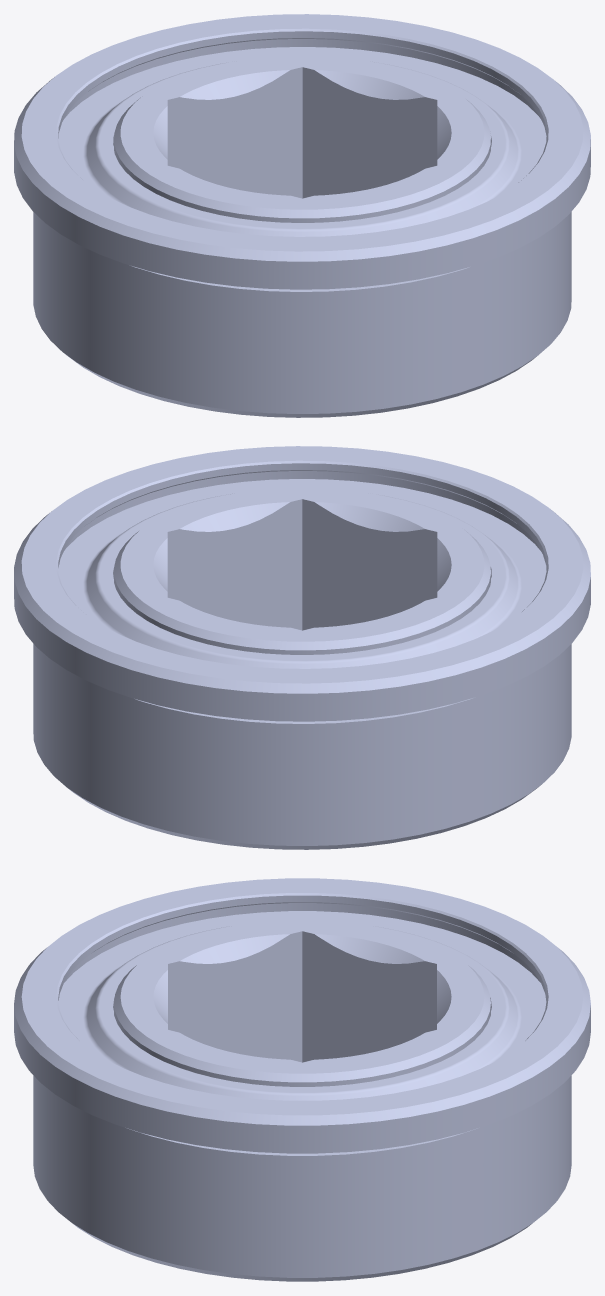
File: _1611_0514_4008_STEP_1__1_.obj
3 views of the same model, one above another, from view 1: azimuth 30°, elevation 25°; view 2: azimuth 150°, elevation 25°; view 3: azimuth 270°, elevation 25° (orthographic).
Parts seen in each view (by area): view 1: mesh1606, mesh1597, mesh1607, mesh1559, mesh1553, mesh1545, mesh1600, mesh1587, mesh1580, mesh1598, mesh1601, mesh1562 (+22 smaller); view 2: mesh1606, mesh1597, mesh1607, mesh1559, mesh1566, mesh1556, mesh1600, mesh1587, mesh1580, mesh1598, mesh1601, mesh1562 (+23 smaller); view 3: mesh1607, mesh1597, mesh1601, mesh1559, mesh1547, mesh1550, mesh1587, mesh1599, mesh1580, mesh1584, mesh1563, mesh1589 (+12 smaller).
Boxes of the visible parts, x1,y1,x2,y2 form: mesh1606: [33, 212, 437, 413]; mesh1597: [21, 14, 583, 251]; mesh1607: [437, 212, 571, 398]; mesh1559: [120, 56, 484, 209]; mesh1553: [302, 67, 437, 198]; mesh1545: [167, 67, 302, 198]; mesh1600: [14, 145, 446, 289]; mesh1587: [58, 47, 546, 196]; mesh1580: [99, 67, 505, 228]; mesh1598: [14, 77, 446, 261]; mesh1601: [447, 139, 590, 273]; mesh1562: [114, 97, 396, 218]; mesh1606: [167, 644, 571, 845]; mesh1597: [21, 446, 583, 683]; mesh1607: [33, 644, 167, 830]; mesh1559: [120, 488, 484, 641]; mesh1566: [302, 499, 437, 630]; mesh1556: [167, 499, 302, 630]; mesh1600: [158, 577, 590, 721]; mesh1587: [58, 479, 546, 628]; mesh1580: [99, 499, 505, 660]; mesh1598: [158, 509, 590, 693]; mesh1601: [14, 571, 157, 705]; mesh1562: [208, 529, 490, 650]; mesh1607: [33, 1075, 571, 1277]; mesh1597: [21, 878, 583, 1115]; mesh1601: [14, 1005, 590, 1153]; mesh1559: [120, 920, 484, 1073]; mesh1547: [302, 931, 436, 1062]; mesh1550: [168, 931, 302, 1062]; mesh1587: [58, 911, 546, 1060]; mesh1599: [14, 997, 590, 1125]; mesh1580: [99, 930, 505, 1092]; mesh1584: [87, 1009, 517, 1100]; mesh1563: [114, 997, 490, 1082]; mesh1589: [64, 903, 540, 982].
Size of the model in its own units: 0.015 by 0.005 by 0.015.
